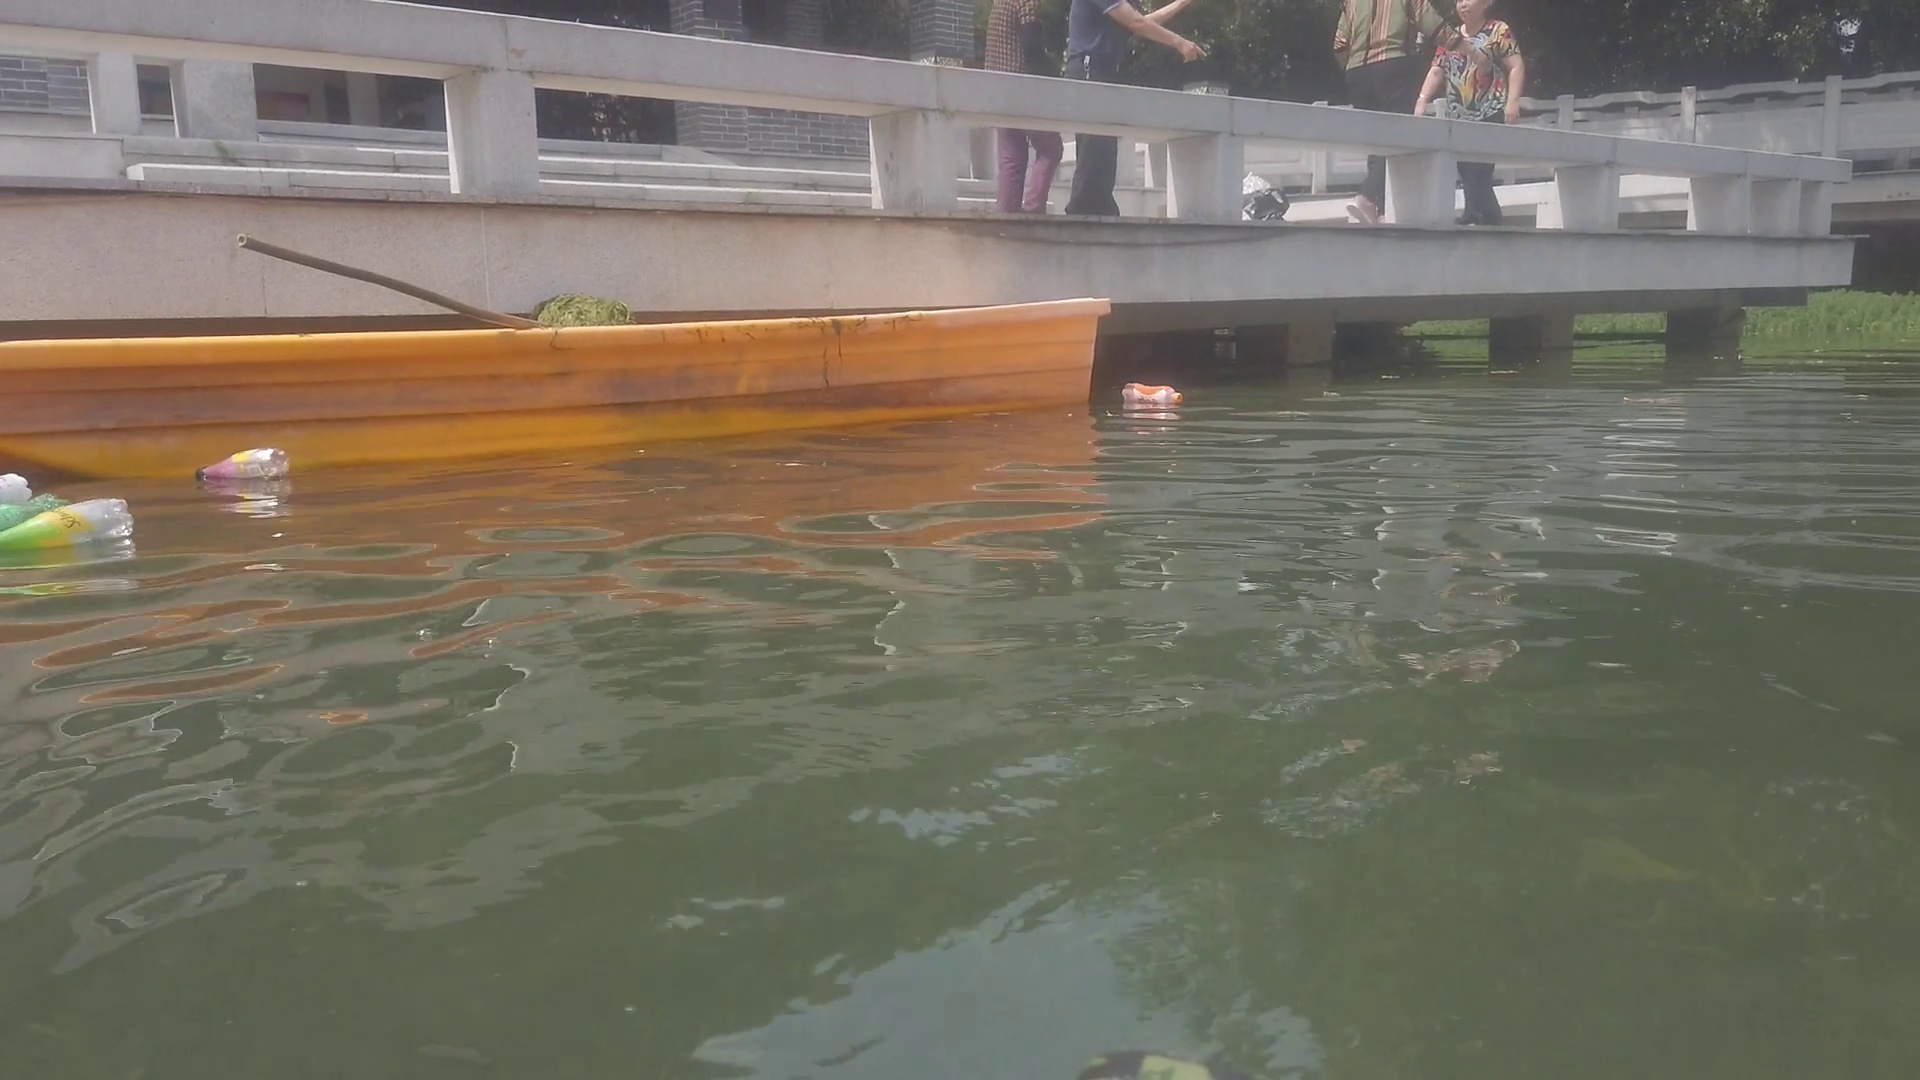bottle: (1, 493, 138, 547), (195, 448, 291, 477), (1, 491, 59, 526), (1122, 384, 1187, 404), (1, 475, 33, 502)
